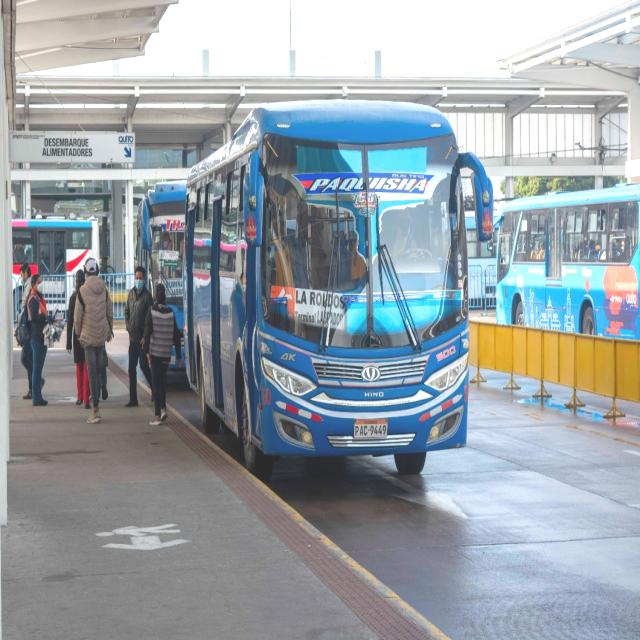BUS: (182, 101, 471, 483)
